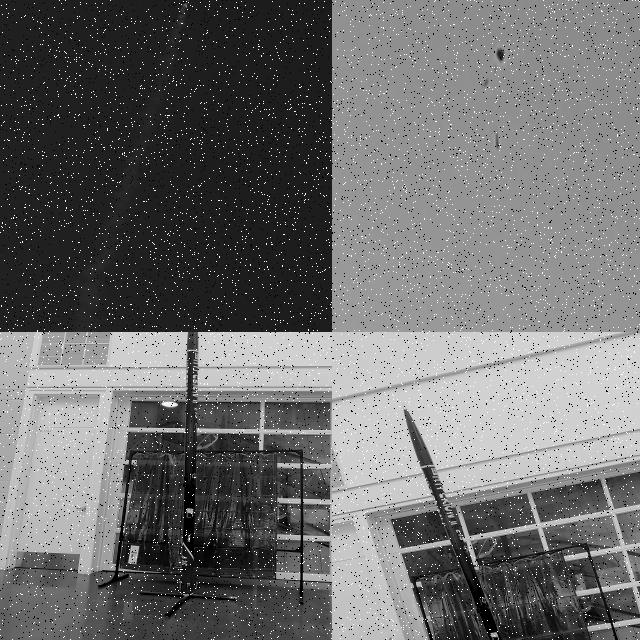Rocket: (402, 402, 502, 640), (176, 332, 201, 595), (176, 0, 192, 9), (495, 126, 500, 150)
